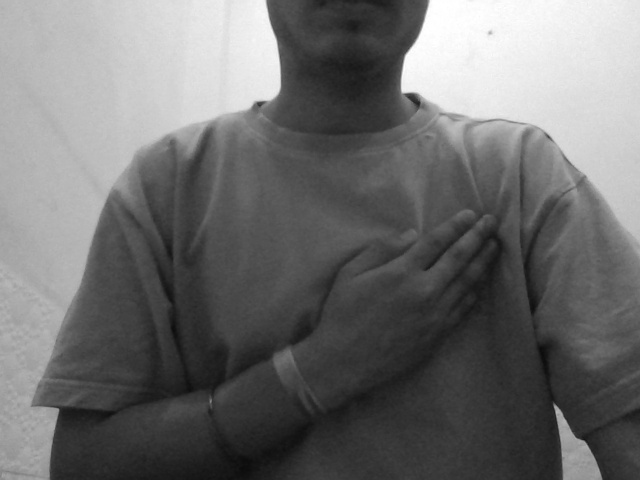Sorry: (288, 195, 545, 411)
